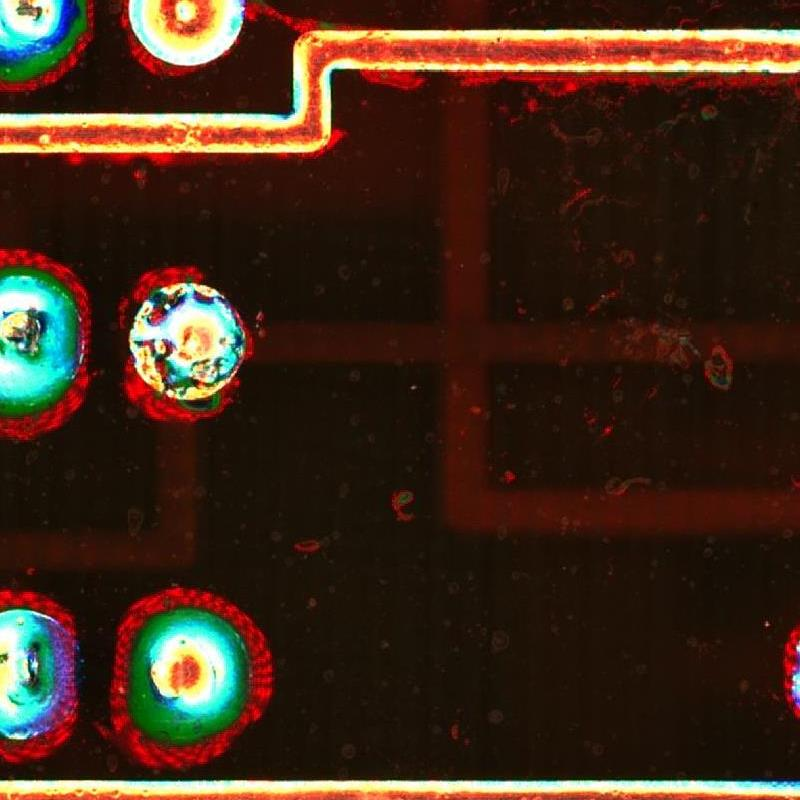bad: (109, 259, 272, 431), (109, 1, 256, 93)
